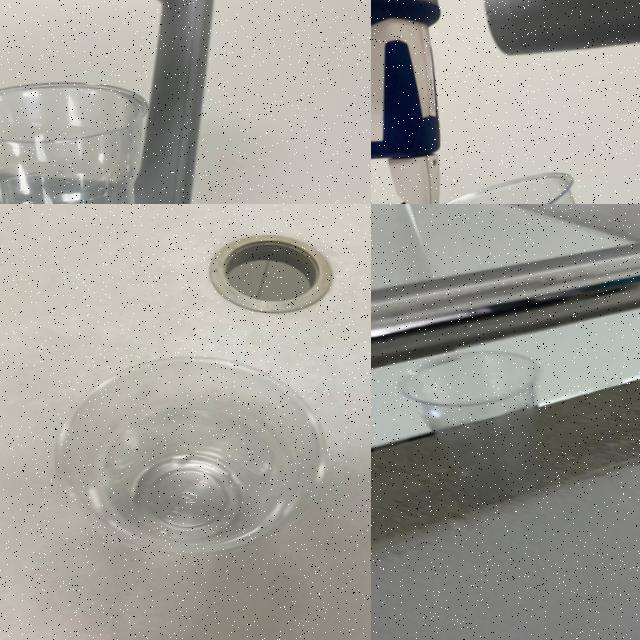glass: (37, 337, 354, 568), (386, 337, 552, 496), (0, 60, 179, 204), (371, 146, 640, 204)
